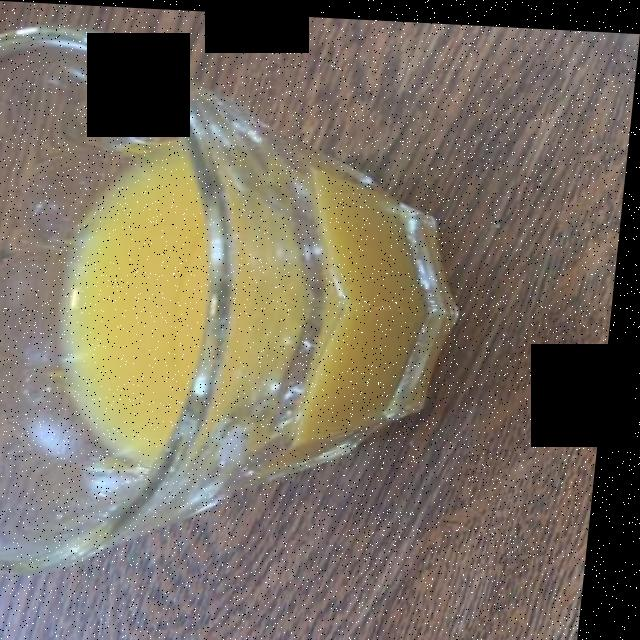juice-orange: (56, 132, 451, 484)
